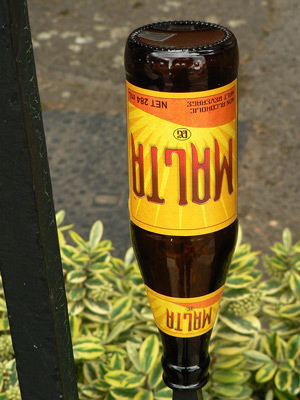litter: (122, 18, 238, 391)
